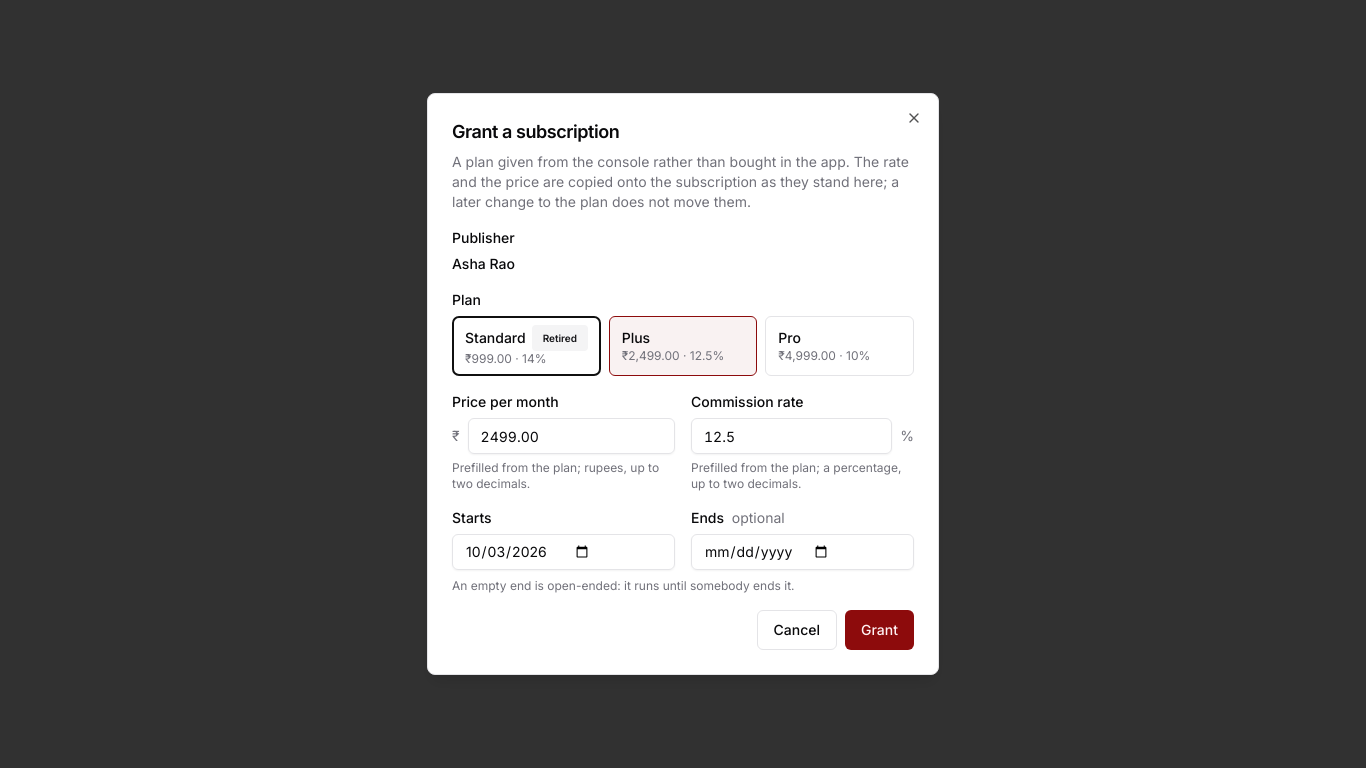
the grant › refuses an end before the start, and a rate that is not a percentage
In the date field labelled "Starts": (564, 552) top-left (452, 534), bottom-right (675, 570), type "2026-10-01"
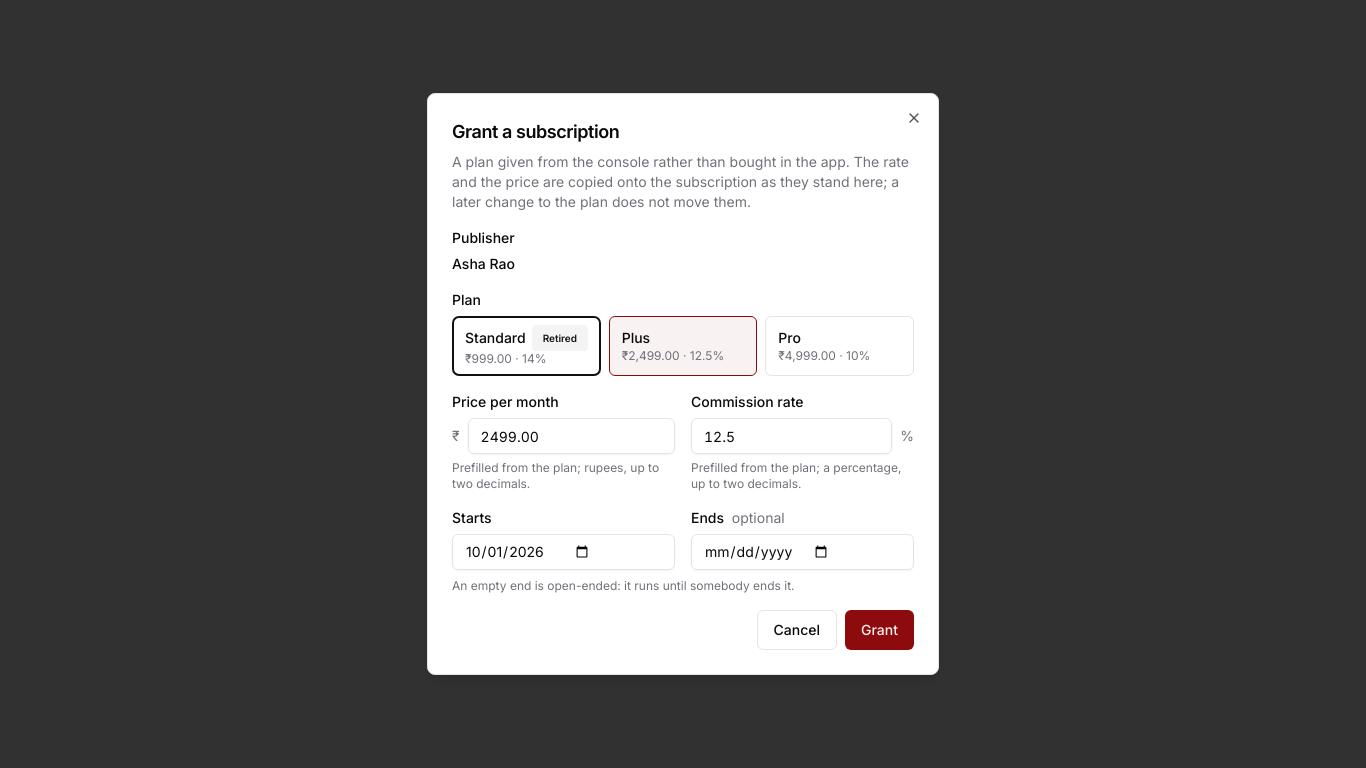
In the date field labelled "Ends optional": (802, 552) top-left (691, 534), bottom-right (914, 570), type "2026-09-01"
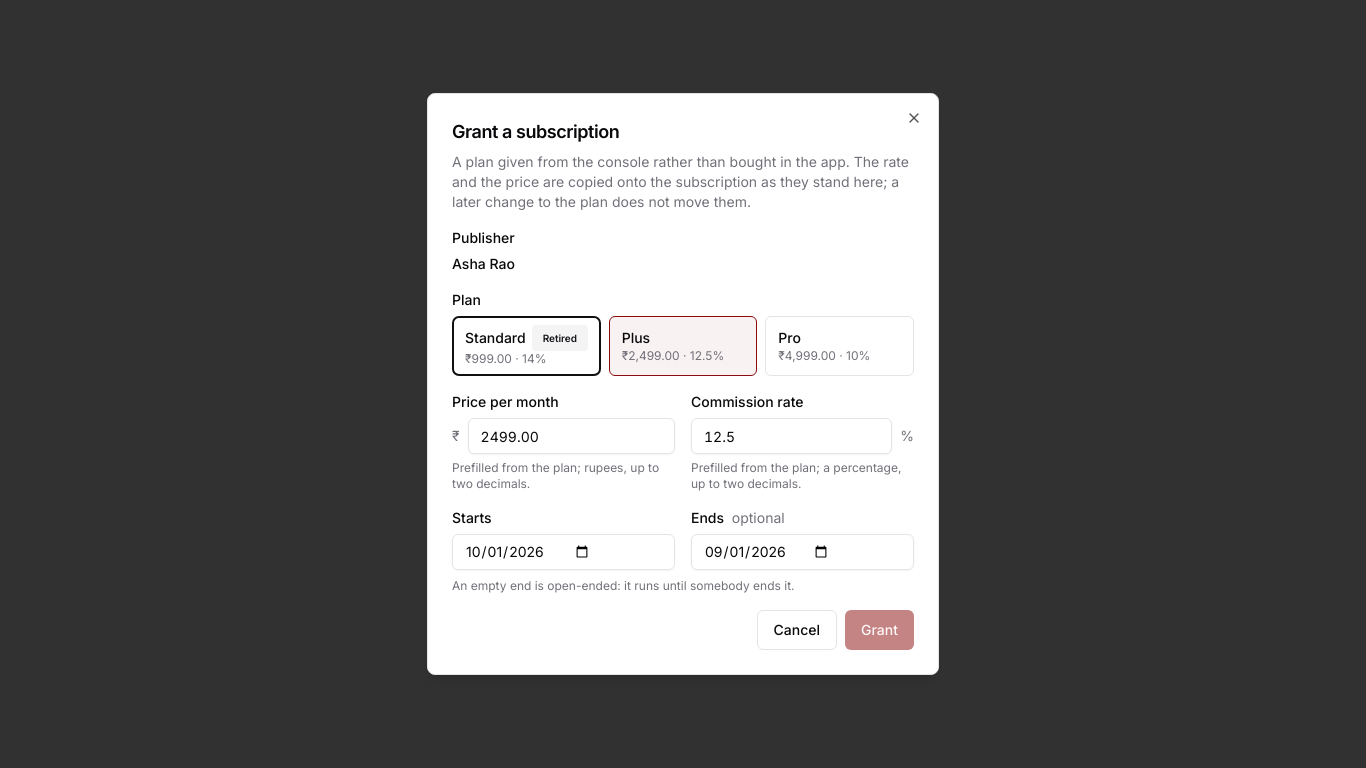
Now the button "Grant" is disabled, box top-left (845, 610), bottom-right (914, 650)
In the date field labelled "Ends optional": (802, 552) top-left (691, 534), bottom-right (914, 570), type "2026-12-01"
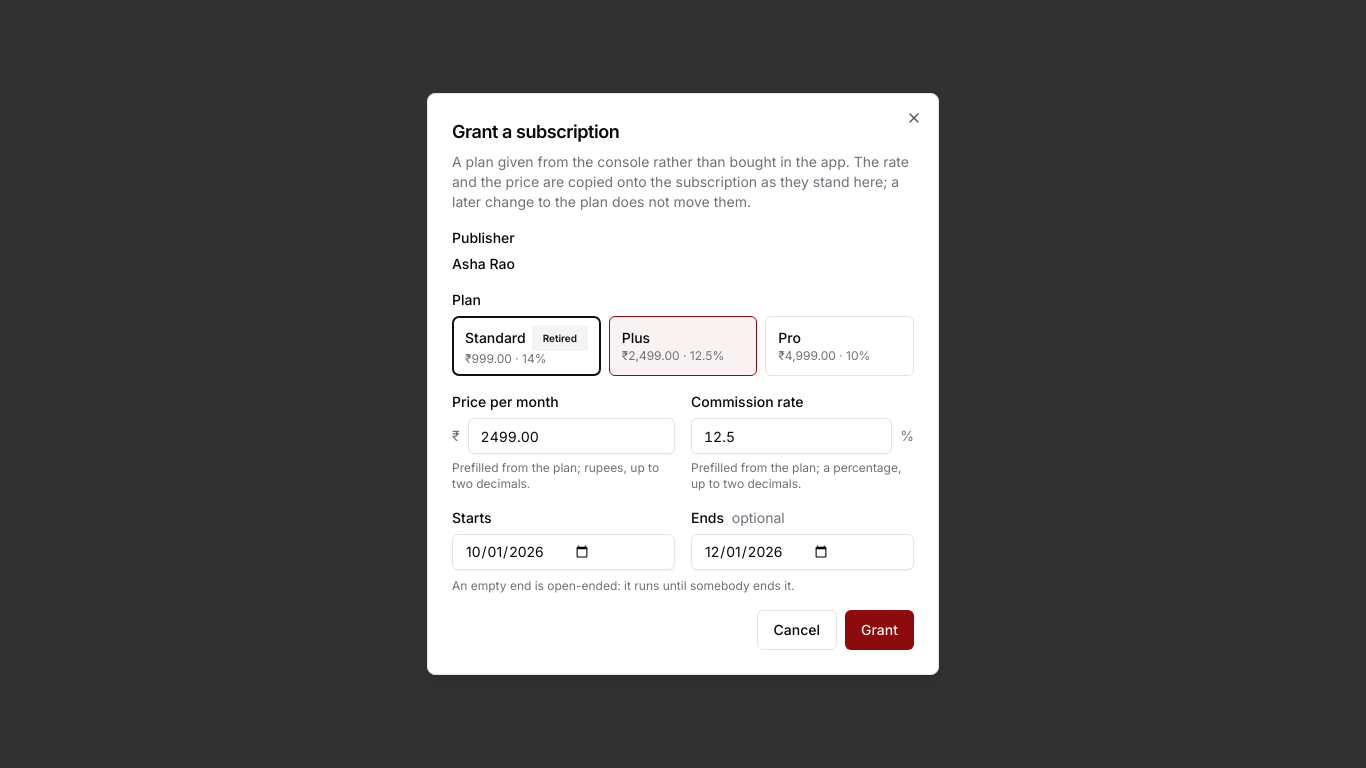
Now the button "Grant" is enabled, box top-left (845, 610), bottom-right (914, 650)
Replace the text in the field labelled "Commission rate" with "abc": (792, 436) top-left (691, 418), bottom-right (892, 454)
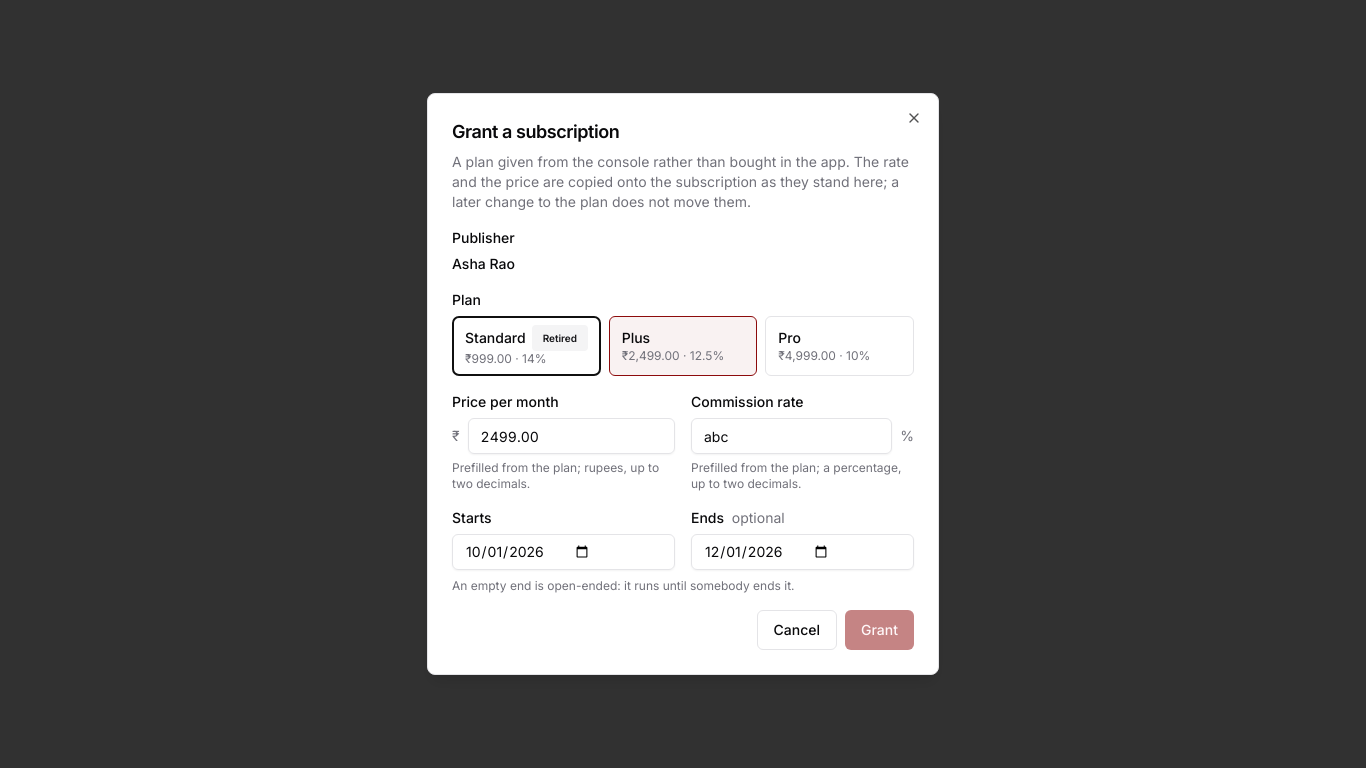
Now the button "Grant" is disabled, box top-left (845, 610), bottom-right (914, 650)
